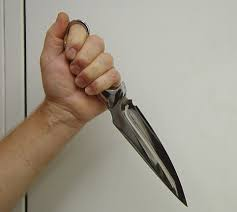knife: (55, 14, 189, 209)
